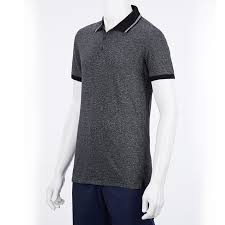C_polo shirt: (67, 9, 178, 188)
